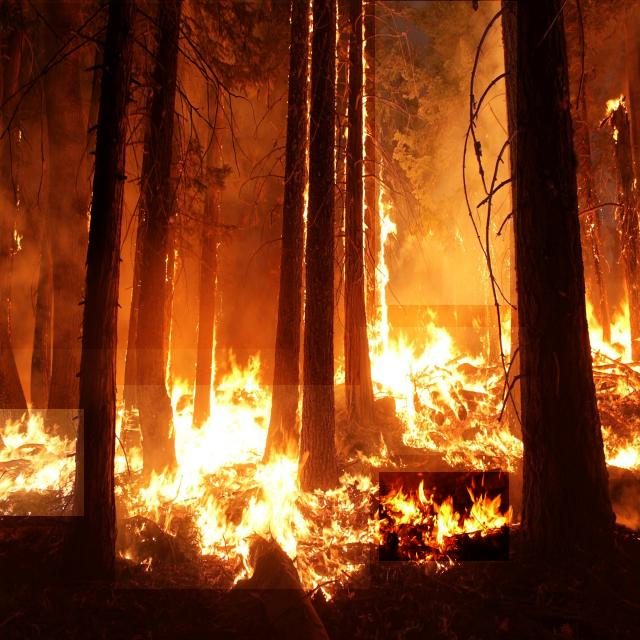Fire: (115, 385, 370, 589), (360, 327, 526, 455), (379, 472, 509, 561), (587, 284, 640, 479), (0, 409, 84, 516)
Smoke: (0, 3, 293, 349), (376, 1, 518, 305)
